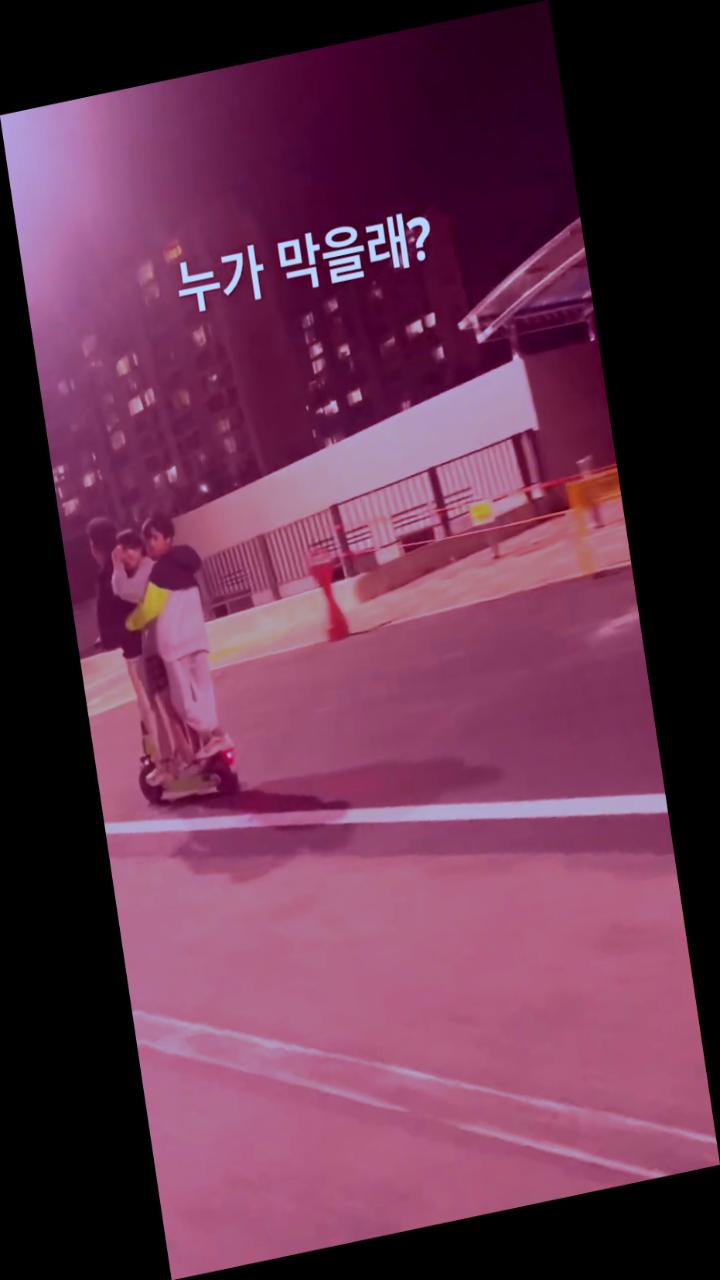multiple: (78, 493, 245, 818)
